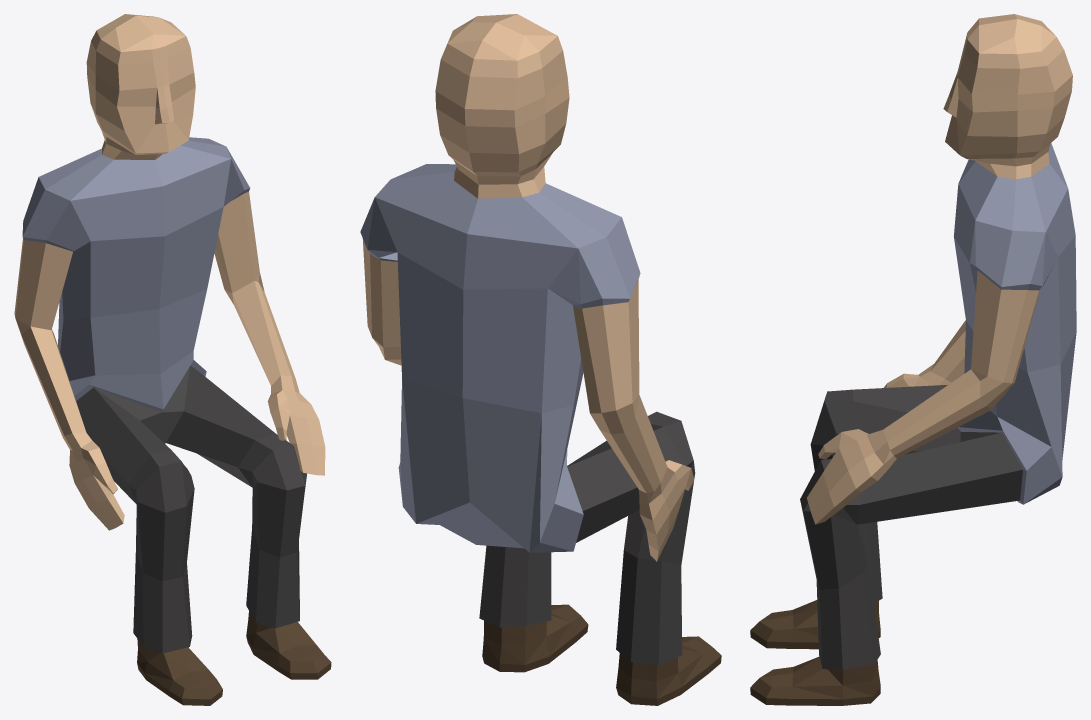
Rendered from Male_Sitting.glb.
3 renders of one model, left to right at view 1: azimuth 30°, elevation 25°; view 2: azimuth 150°, elevation 25°; view 3: azimuth 270°, elevation 25°, orthographic. The views are drawn at different scales.
Visible parts, largest first — view 1: Male_Sitting; view 2: Male_Sitting; view 3: Male_Sitting.
Boxes of the visible parts, x1,y1,x2,y2 form: Male_Sitting: [14, 14, 331, 705]; Male_Sitting: [360, 14, 721, 705]; Male_Sitting: [750, 14, 1076, 705].
Size of the model in its own units: 1.25 by 3.1 by 1.42.
